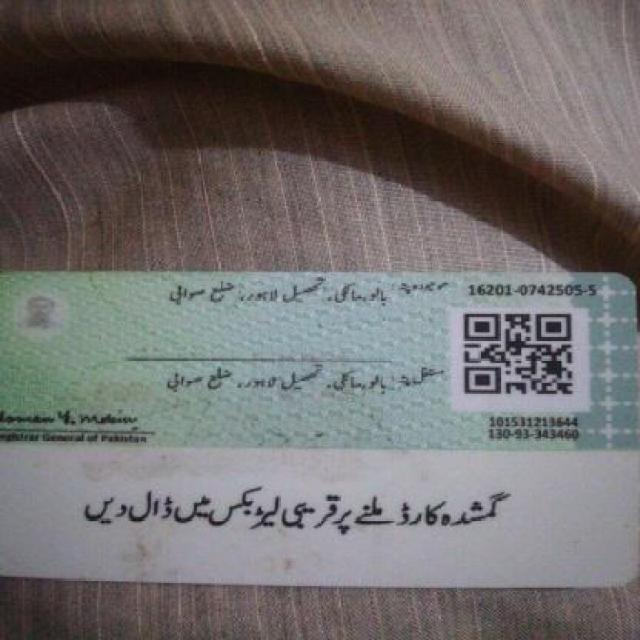Back: (7, 265, 636, 589)
